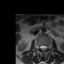CCS_normal: (42, 43, 44, 52)
LFS_normal: (46, 44, 48, 50)
LLS_normal: (44, 43, 46, 51)
RFS_normal: (38, 43, 40, 50)
RLS_normal: (40, 43, 42, 50)
